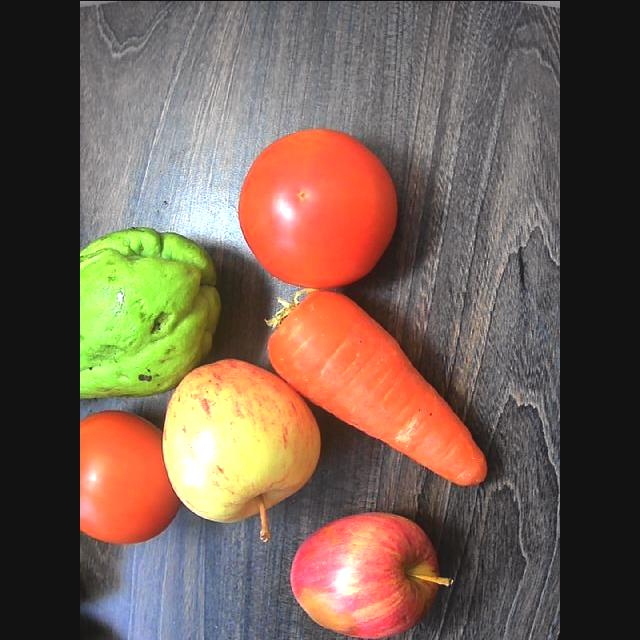chayote: (80, 226, 220, 396)
manzana: (162, 359, 320, 540), (291, 512, 452, 637)
tomate: (240, 128, 397, 286), (80, 410, 181, 542)
zanahoria: (268, 290, 486, 484)
